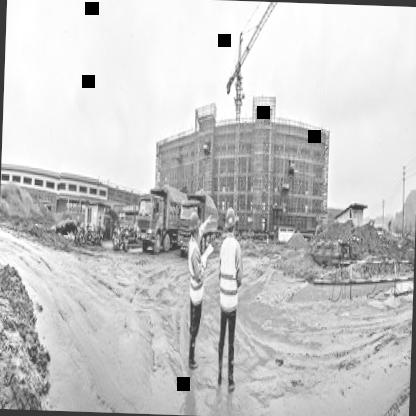helmet: (224, 206, 238, 240), (188, 209, 200, 238)
